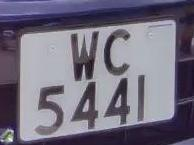1: (132, 72, 153, 126)
4: (69, 79, 104, 132), (104, 74, 136, 129)
5: (28, 79, 72, 142)
C: (100, 27, 134, 80)
W: (66, 29, 102, 83)
